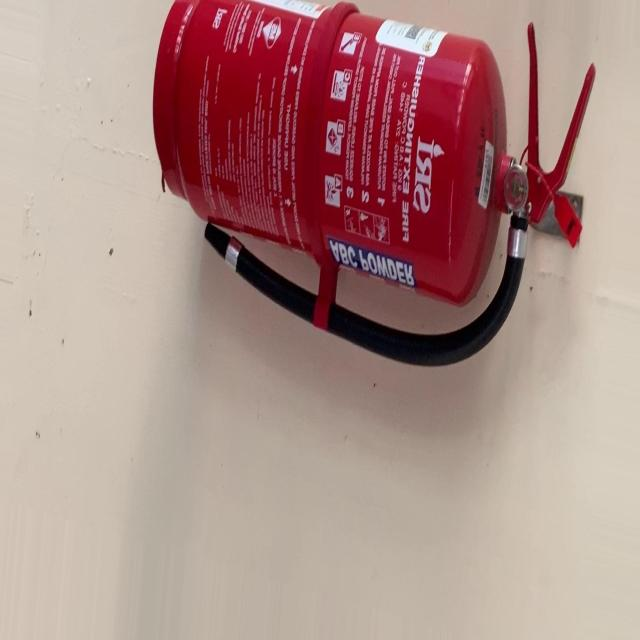fire_extinguisher: (149, 0, 598, 376)
